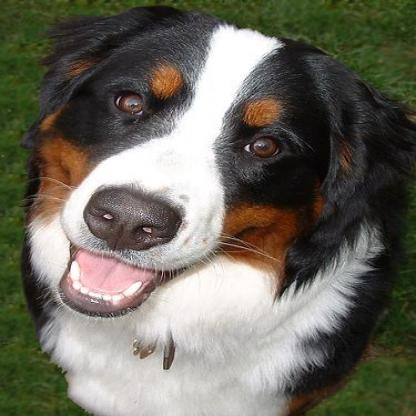Bernese_mountain_dog: (19, 4, 409, 414)
